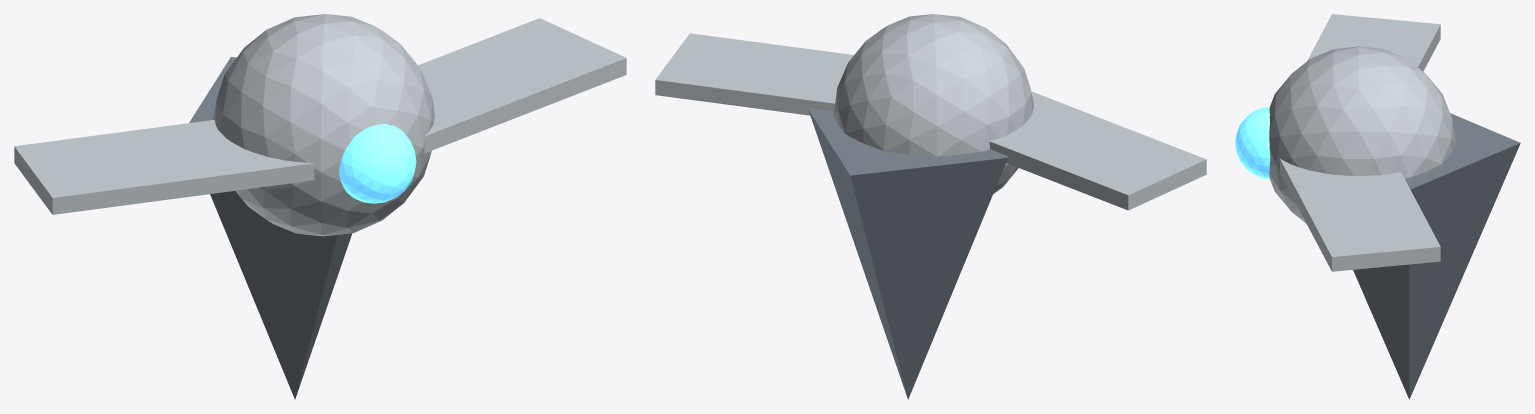
Rendered from drone_04.glb.
3 renders of one model, left to right at view 1: azimuth 30°, elevation 25°; view 2: azimuth 150°, elevation 25°; view 3: azimuth 270°, elevation 25°, orthographic. The views are drawn at different scales.
Visible parts, largest first — view 1: core, wing-1, wing1, body, sensor; view 2: body, core, wing-1, wing1; view 3: core, body, wing1, wing-1, sensor.
Boxes of the visible parts, left/top/right/bottom form: core: left=213, top=14, right=434, bottom=236; wing-1: left=14, top=120, right=315, bottom=214; wing1: left=418, top=18, right=626, bottom=153; body: left=189, top=57, right=352, bottom=399; sensor: left=339, top=124, right=416, bottom=203; body: left=808, top=108, right=1007, bottom=399; core: left=833, top=14, right=1033, bottom=193; wing-1: left=989, top=91, right=1206, bottom=210; wing1: left=655, top=33, right=853, bottom=115; core: left=1269, top=46, right=1455, bottom=223; body: left=1353, top=113, right=1520, bottom=399; wing1: left=1280, top=159, right=1440, bottom=271; wing-1: left=1307, top=14, right=1440, bottom=71; sensor: left=1235, top=107, right=1270, bottom=178.
Bounding box in the file's own units: 2.84 × 1.88 × 1.41.
